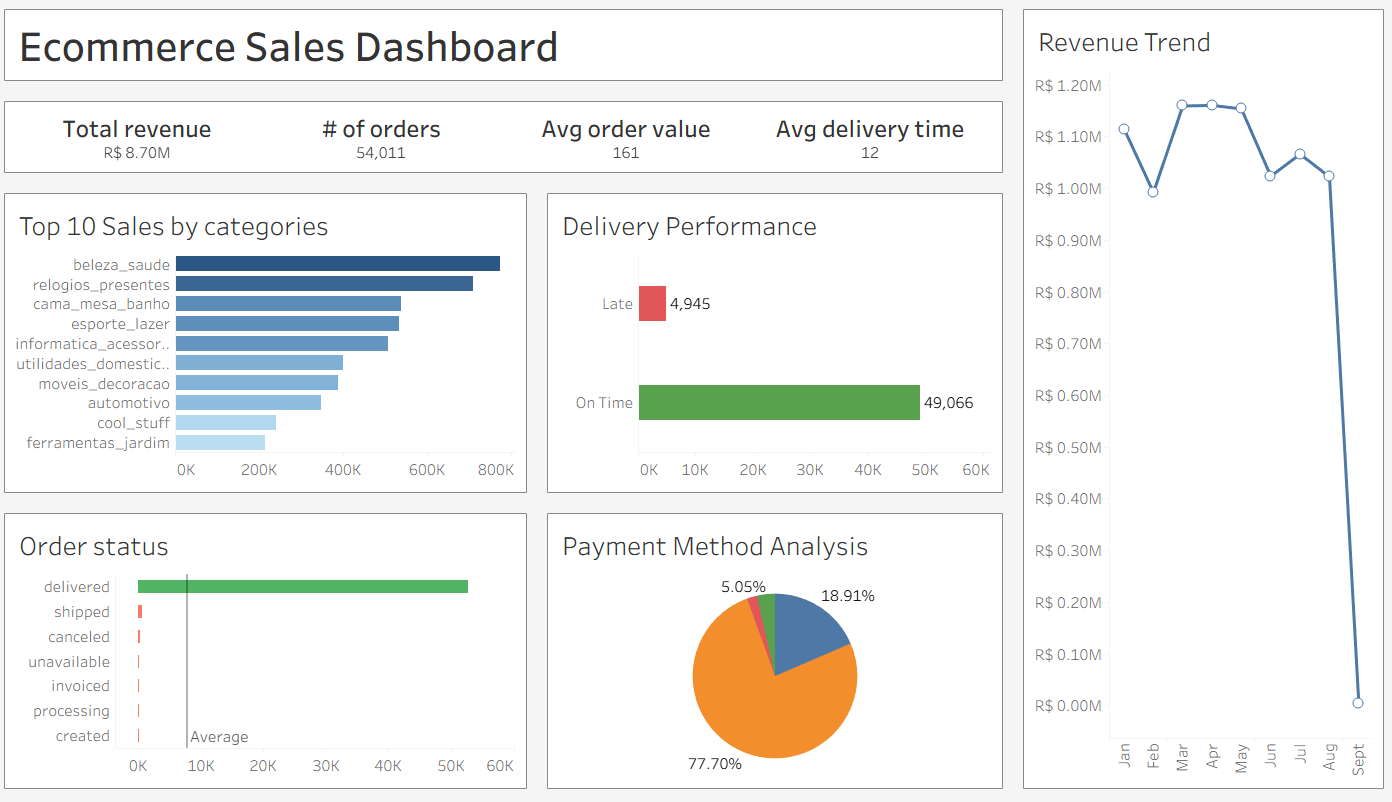

What the dashboard file says about the page in this screenshot:
{"tool":"tableau","page":{"name":"Ecommerce Sales Dashboard","canvas":[1400,800],"ordinal":0},"visuals":[{"type":"text","box":[0,0,1019,92]},{"type":"worksheet","title":"Revenue Trend","mark":"Automatic","rows":["payment_value","payment_value"],"cols":["order_purchase_timestamp"],"box":[1019,0,381,800]},{"type":"legend","title":"Top 10 Sales by categories","param":"[federated.031c7v31melhll1gep9vg0r77irb].[sum:price:qk]","box":[1232,8,160,73]},{"type":"legend","title":"Order status","param":"[federated.031c7v31melhll1gep9vg0r77irb].[usr:Calculation_1080819972993027:nk:1]","box":[1232,81,160,72]},{"type":"worksheet","title":"KPIs","mark":"Automatic","box":[0,92,1019,92]},{"type":"legend","title":"Payment Method Analysis","param":"[federated.031c7v31melhll1gep9vg0r77irb].[none:payment_type:nk]","box":[1232,153,160,135]},{"type":"worksheet","title":"Top 10 Sales by categories","mark":"Automatic","rows":["product_category_name"],"cols":["price"],"box":[0,184,543,320]},{"type":"worksheet","title":"Delivery Performance","mark":"Automatic","rows":["Calculation_1080819977199622"],"cols":["order_id"],"box":[543,184,476,320]},{"type":"legend","title":"Payment Method Analysis","param":"[federated.031c7v31melhll1gep9vg0r77irb].[ctd:order_id (olist_order_payments_dat","box":[1232,288,160,51]},{"type":"legend","title":"Delivery Performance","param":"[federated.031c7v31melhll1gep9vg0r77irb].[none:Calculation_1080819977199622:nk]","box":[1232,339,160,72]},{"type":"worksheet","title":"Order status","mark":"Automatic","rows":["order_status"],"cols":["olist_orders_dataset.csv_2B03EBA5E80443C98490C4419C266399"],"box":[0,504,543,296]},{"type":"worksheet","title":"Payment Method Analysis","mark":"Pie","box":[543,504,476,296]}]}

Visuals, with their boxes in screenshot pixels (x1, y1, x2, y2), scaled from the page's 1400x800 canvas onto the 1392x802 screenshot:
text: l=0, t=0, r=1013, b=92
"Revenue Trend" worksheet: l=1013, t=0, r=1391, b=801
"Top 10 Sales by categories" legend: l=1225, t=8, r=1384, b=81
"Order status" legend: l=1225, t=81, r=1384, b=153
"KPIs" worksheet: l=0, t=92, r=1013, b=184
"Payment Method Analysis" legend: l=1225, t=153, r=1384, b=289
"Top 10 Sales by categories" worksheet: l=0, t=184, r=540, b=505
"Delivery Performance" worksheet: l=540, t=184, r=1013, b=505
"Payment Method Analysis" legend: l=1225, t=289, r=1384, b=340
"Delivery Performance" legend: l=1225, t=340, r=1384, b=412
"Order status" worksheet: l=0, t=505, r=540, b=801
"Payment Method Analysis" worksheet (Pie marks): l=540, t=505, r=1013, b=801
